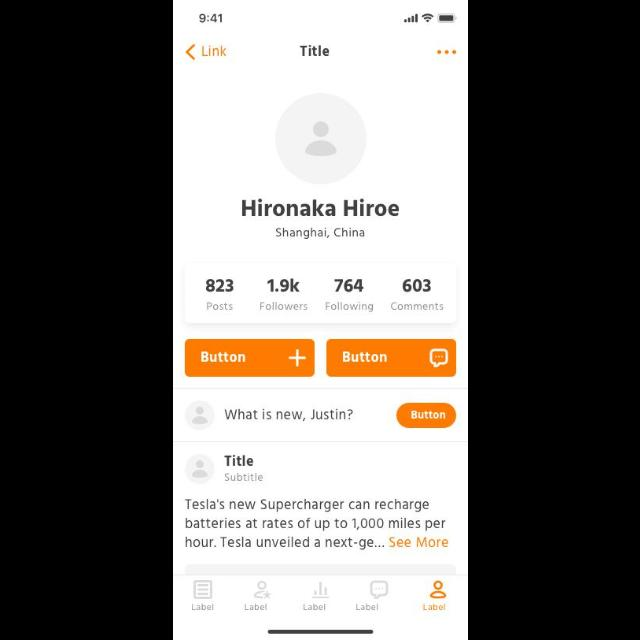icon: (275, 94, 365, 184), (184, 401, 214, 432), (184, 454, 214, 484), (193, 580, 213, 600), (252, 581, 272, 599), (368, 580, 388, 598), (310, 581, 328, 599), (428, 581, 446, 599), (186, 44, 197, 61), (436, 50, 456, 54)
text: (184, 499, 448, 551), (242, 199, 398, 217), (223, 408, 353, 422), (276, 228, 364, 240), (323, 301, 372, 313), (390, 302, 444, 312), (266, 278, 300, 292), (334, 279, 364, 293), (402, 278, 431, 292), (260, 302, 308, 310), (200, 44, 226, 58), (299, 45, 329, 57), (223, 473, 263, 482), (204, 280, 233, 292), (224, 456, 254, 466), (206, 301, 232, 311), (242, 602, 268, 612), (422, 602, 446, 612), (190, 603, 214, 611), (356, 603, 378, 611), (304, 603, 326, 611)
textbutton: (326, 339, 456, 377), (185, 339, 315, 376), (396, 403, 456, 429)
uppertaskbar: (199, 12, 456, 24)
